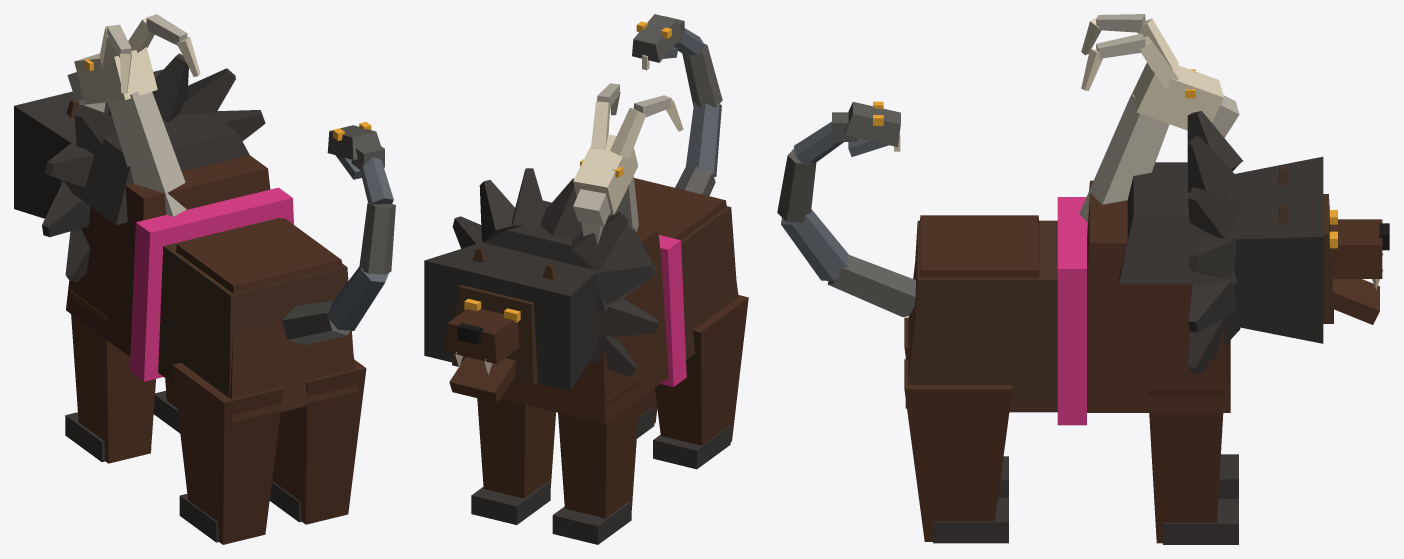
Rendered from EN_Chimera.fbx.
The picture shows the model from 3 angles, left to right: view 1: azimuth 30°, elevation 25°; view 2: azimuth 150°, elevation 25°; view 3: azimuth 270°, elevation 25°; orthographic projection. The views are drawn at different scales.
Parts seen in each view (by area): view 1: Haunch, LegL, Body, Chest, LegR, Harness, ArmL, Withers, Ruff, GoatNeck, GoatSkull, Coil1 (+20 smaller); view 2: Ruff, Chest, LegL, ArmL, ArmR, Body, Haunch, Withers, Harness, Head, Snout, GoatSkull (+23 smaller); view 3: Chest, Body, Ruff, LegR, Haunch, ArmR, Withers, Harness, GoatNeck, GoatSkull, Tail, Snout (+18 smaller).
Part boxes in pixels (<box>): Haunch: <box>160,218,358,422</box>; LegL: <box>172,363,283,544</box>; Body: <box>158,217,353,412</box>; Chest: <box>66,155,270,356</box>; LegR: <box>272,359,366,524</box>; Harness: <box>129,187,293,381</box>; ArmL: <box>69,290,155,463</box>; Withers: <box>59,112,249,224</box>; Ruff: <box>14,69,163,218</box>; GoatNeck: <box>106,91,186,216</box>; GoatSkull: <box>74,47,157,104</box>; Coil1: <box>359,202,395,274</box>; Ruff: <box>424,243,600,390</box>; Chest: <box>501,225,668,423</box>; LegL: <box>655,295,748,445</box>; ArmL: <box>558,376,640,518</box>; ArmR: <box>477,398,555,498</box>; Body: <box>681,206,737,359</box>; Haunch: <box>634,178,738,356</box>; Withers: <box>485,200,657,311</box>; Harness: <box>658,235,686,386</box>; Head: <box>452,285,537,384</box>; Snout: <box>445,308,519,363</box>; GoatSkull: <box>573,134,638,214</box>; Chest: <box>1087,180,1230,412</box>; Body: <box>911,220,1057,412</box>; Ruff: <box>1227,156,1323,343</box>; LegR: <box>904,359,1012,541</box>; Haunch: <box>905,215,1053,408</box>; ArmR: <box>1148,389,1224,543</box>; Withers: <box>1118,162,1236,284</box>; Harness: <box>1057,197,1086,425</box>; GoatNeck: <box>1079,94,1169,236</box>; GoatSkull: <box>1132,62,1223,130</box>; Tail: <box>827,254,915,316</box>; Snout: <box>1330,219,1382,278</box>.
Size of the model in its own units: 1.28 by 2.9 by 2.4.
